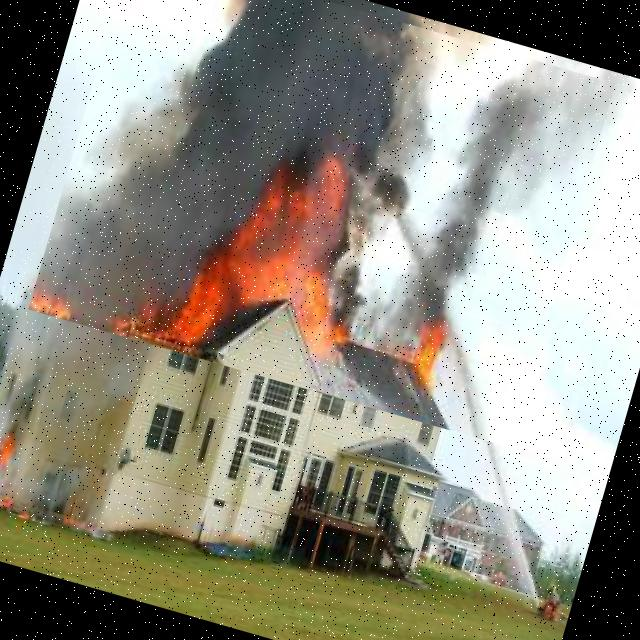fire: (27, 0, 614, 447)
